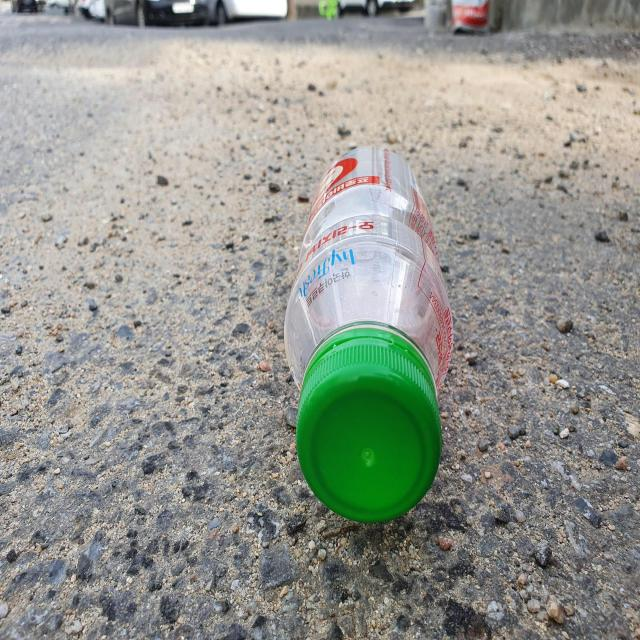plastic: (284, 146, 454, 523)
